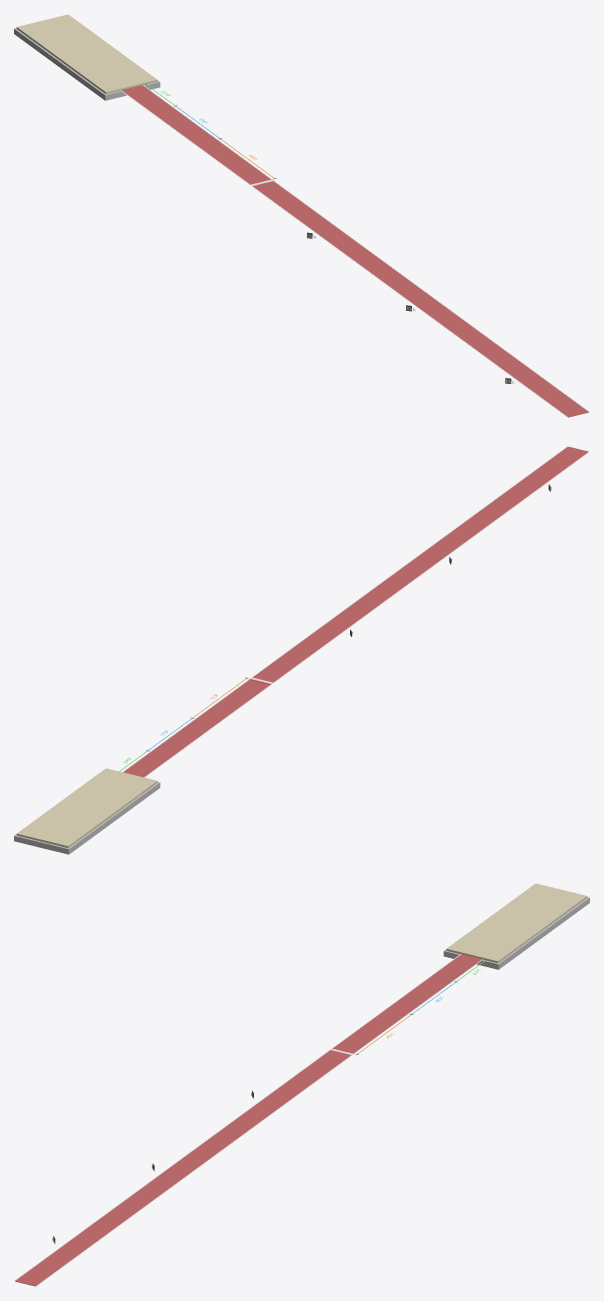
File: Triple Jump Setup.glb
The picture shows the model from 3 angles, top to bottom: view 1: azimuth 30°, elevation 25°; view 2: azimuth 150°, elevation 25°; view 3: azimuth 330°, elevation 25°; orthographic projection.
Visible parts, largest first — view 1: TJ_Runway_Main, TJ_Sand_Volume, TJ_Pit_Border_L, TJ_Runway_Line_L, TJ_Runway_Line_R; view 2: TJ_Runway_Main, TJ_Sand_Volume, TJ_Pit_Border_L, TJ_Runway_Line_L, TJ_Runway_Line_R; view 3: TJ_Runway_Main, TJ_Sand_Volume, TJ_Pit_Border_R, TJ_Runway_Line_L, TJ_Runway_Line_R.
Part boxes in pixels (x1,y1,x2,y2): TJ_Runway_Main: (121,85,588,417); TJ_Sand_Volume: (16,14,157,94); TJ_Pit_Border_L: (15,29,105,99); TJ_Runway_Line_L: (121,90,567,417); TJ_Runway_Line_R: (142,85,589,411); TJ_Runway_Main: (123,446,588,777); TJ_Sand_Volume: (16,768,157,847); TJ_Pit_Border_L: (68,783,159,853); TJ_Runway_Line_L: (144,451,589,777); TJ_Runway_Line_R: (122,446,567,772); TJ_Runway_Main: (15,954,482,1286); TJ_Sand_Volume: (446,883,587,963); TJ_Pit_Border_R: (498,898,588,968); TJ_Runway_Line_L: (14,954,461,1280); TJ_Runway_Line_R: (36,959,482,1286).
Size of the model in its own units: 3.2 by 0.6 by 54.1.
